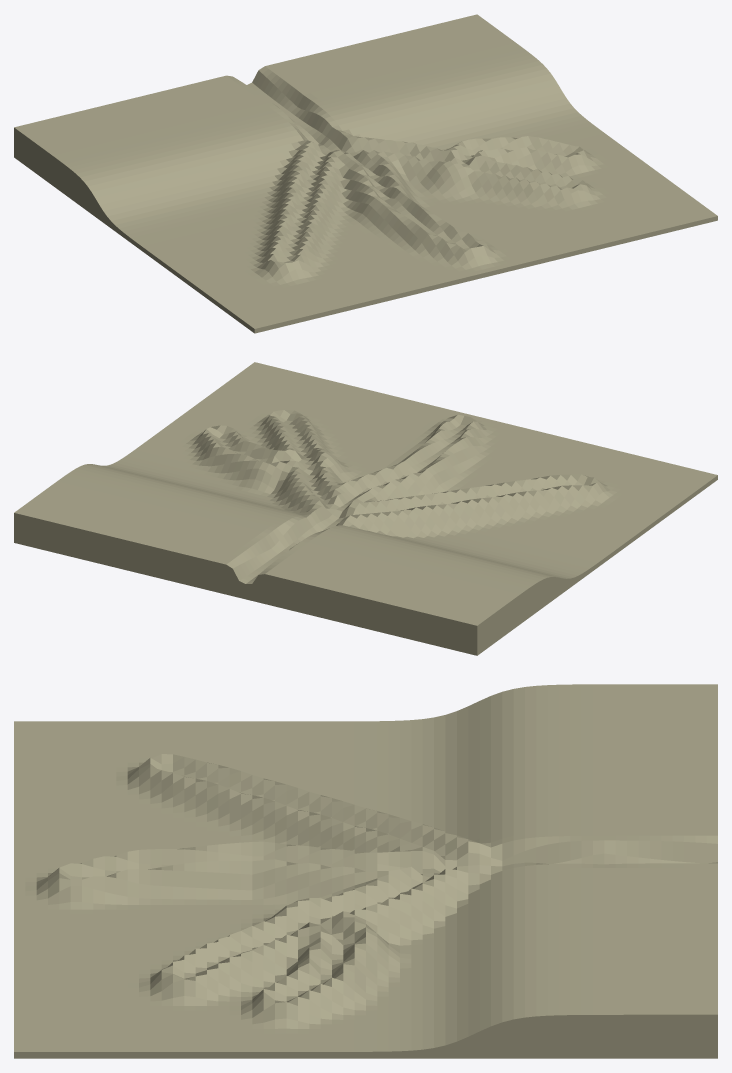
The model's file is river-dominated-delta.glb.
3 renders of one model, top to bottom at view 1: azimuth 30°, elevation 25°; view 2: azimuth 150°, elevation 25°; view 3: azimuth 270°, elevation 25°, orthographic. The views are drawn at different scales.
Visible parts, largest first — view 1: continuous-land-and-bed-birdfoot-delta-with-projecting-distr; view 2: continuous-land-and-bed-birdfoot-delta-with-projecting-distr; view 3: continuous-land-and-bed-birdfoot-delta-with-projecting-distr.
Boxes of the visible parts, x1,y1,x2,y2 form: continuous-land-and-bed-birdfoot-delta-with-projecting-distr: (14, 14, 717, 333); continuous-land-and-bed-birdfoot-delta-with-projecting-distr: (14, 362, 717, 655); continuous-land-and-bed-birdfoot-delta-with-projecting-distr: (14, 684, 717, 1058).
Bounding box in the file's own units: 20 × 1.24 × 18.
